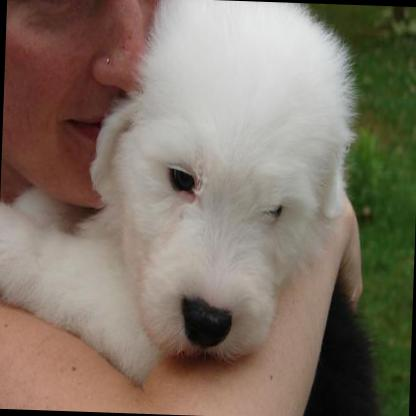Old_English_sheepdog: (0, 0, 357, 392)
